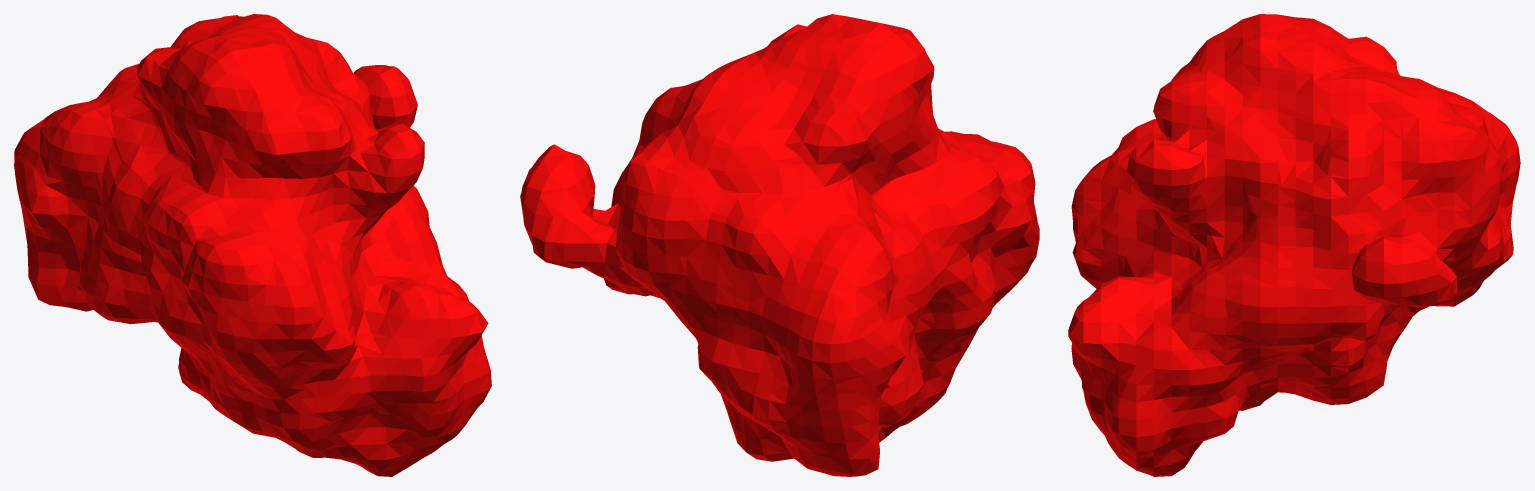
Rendered from gcvP_coarse.dae.
3 views of the same model, side by side, from view 1: azimuth 30°, elevation 25°; view 2: azimuth 150°, elevation 25°; view 3: azimuth 270°, elevation 25° (orthographic). The views are drawn at different scales.
Visible parts, largest first — view 1: gcvP; view 2: gcvP; view 3: gcvP.
Boxes of the visible parts, x1=… form: gcvP: x1=14, y1=14, x2=491, y2=476; gcvP: x1=520, y1=14, x2=1039, y2=476; gcvP: x1=1068, y1=14, x2=1520, y2=476.
Bounding box in the file's own units: 76.26 × 83.17 × 84.14.
